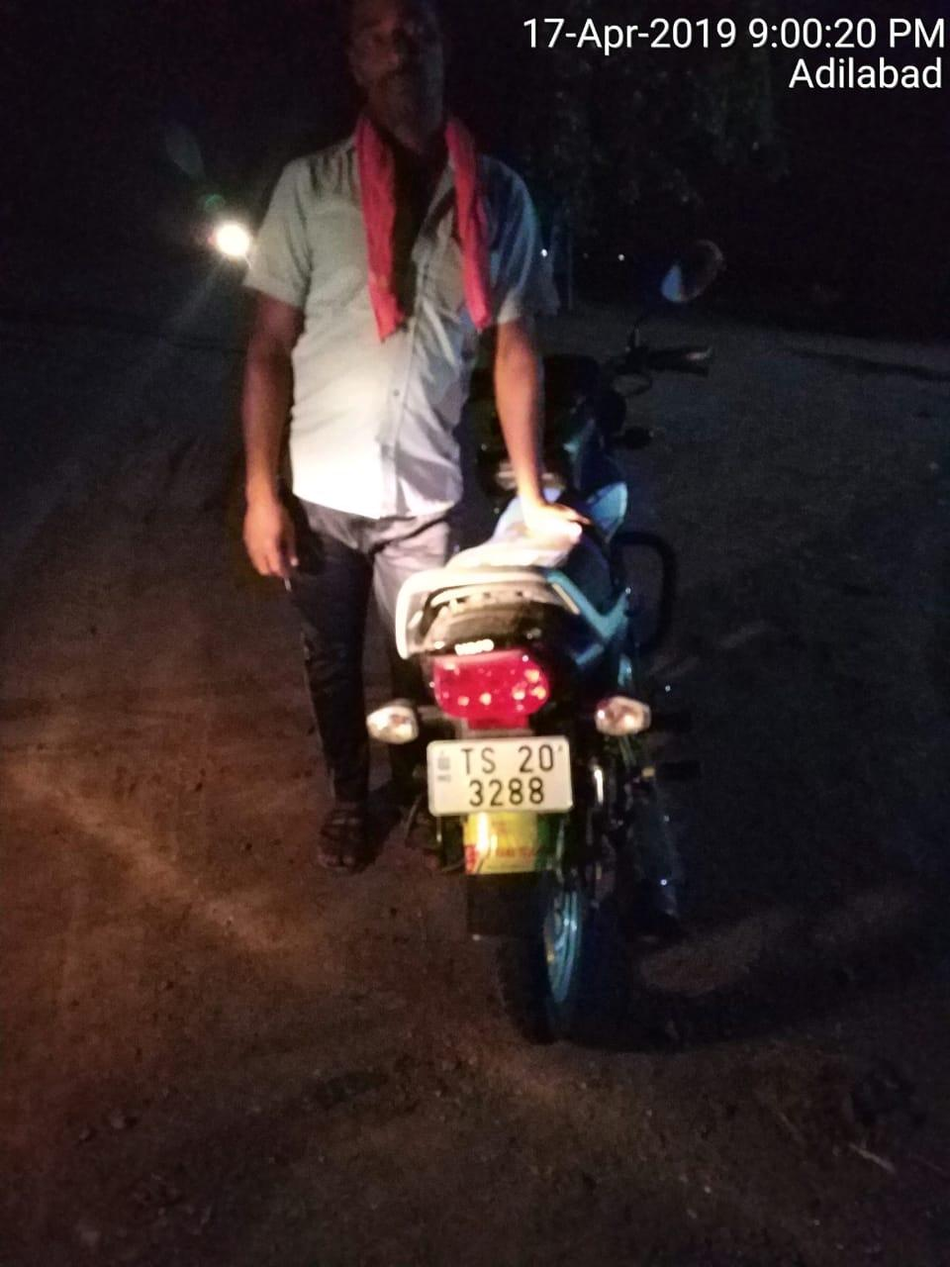plate: (414, 733, 605, 825)
